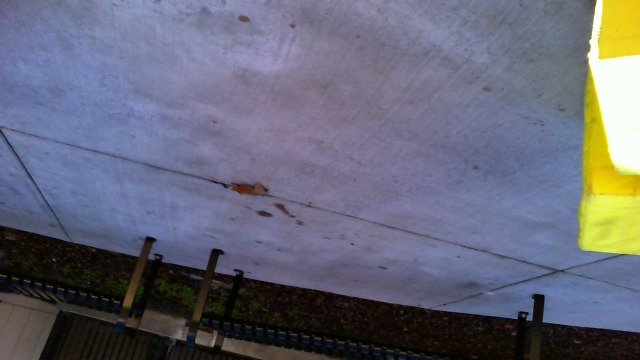cube: (573, 64, 639, 262), (569, 1, 640, 63)
